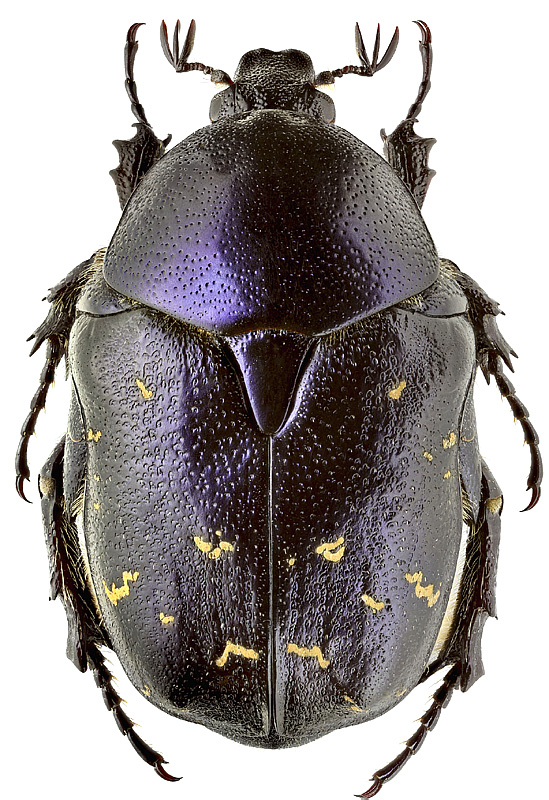Protaetia_ungarica: (10, 5, 540, 793)
